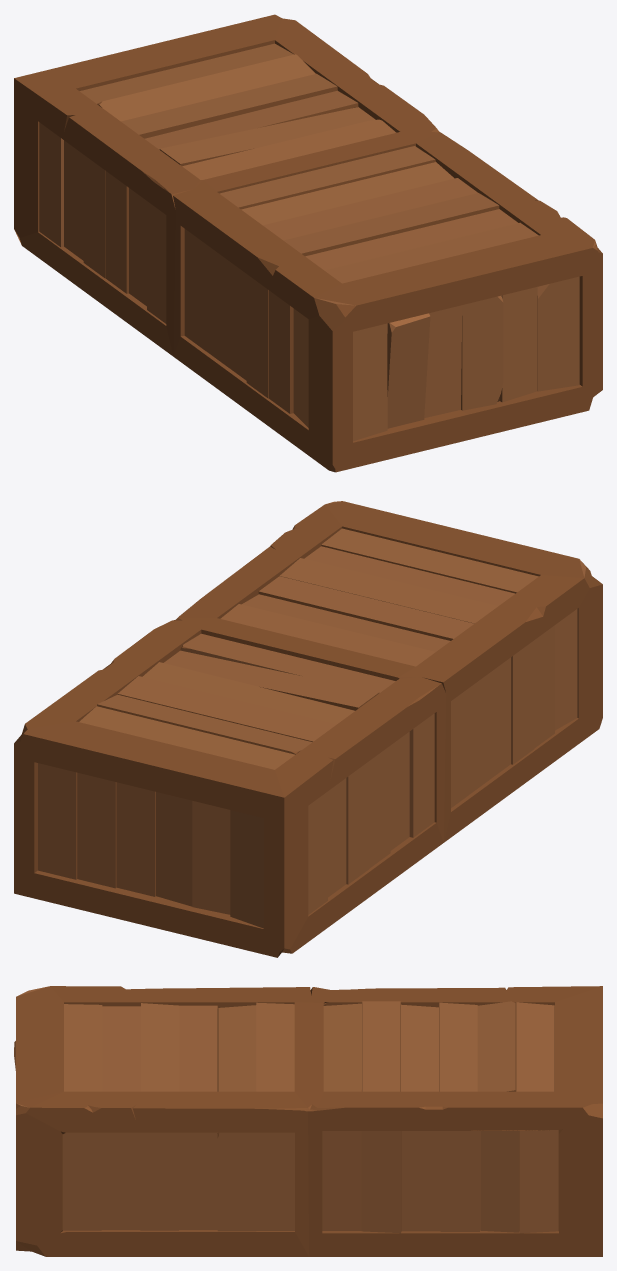
Rendered from Wood_crate_long.glb.
3 renders of one model, top to bottom at view 1: azimuth 30°, elevation 25°; view 2: azimuth 150°, elevation 25°; view 3: azimuth 270°, elevation 25°, orthographic. The views are drawn at different scales.
Parts seen in each view (by area): view 1: Cube; view 2: Cube; view 3: Cube.
Part boxes in pixels (x1,y1,x2,y2): Cube: [14, 14, 602, 472]; Cube: [14, 501, 602, 957]; Cube: [14, 986, 602, 1256].
Size of the model in its own units: 5.18 by 2.98 by 10.56.
